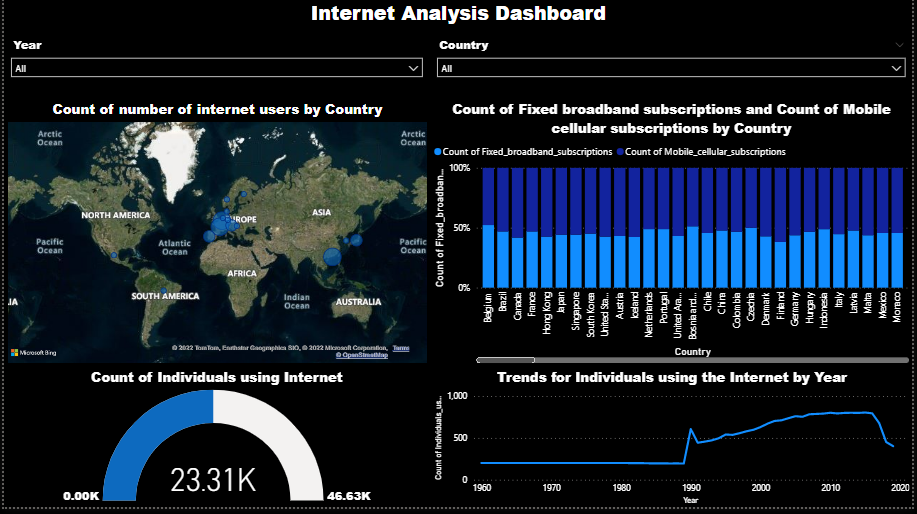

The dashboard page shown, as its layout file describes it:
{"tool":"powerbi","page":{"name":"Page 1","canvas":[1280,720],"ordinal":0},"visuals":[{"type":"textbox","box":[0,0,1280.5,52.2],"z":0},{"type":"map","title":"Count of number of internet users by Country","fields":{"Category":["new_file.Country"],"Size":["CountNonNull(new_file.number_of_internet_users)"]},"box":[0,145.4,601.4,376.9],"z":1000},{"type":"gauge","title":"Count of Individuals using Internet","fields":{"Y":["CountNonNull(new_file.Individuals_using_the_Internet)"]},"box":[0,522.4,600,197.6],"z":2000},{"type":"hundredPercentStackedColumnChart","title":"Count of Fixed broadband subscriptions and Count of Mobile cellular subscriptions by Country","fields":{"Category":["new_file.Country"],"Y":["Count(new_file.Fixed_broadband_subscriptions)","Count(new_file.Mobile_cellular_subscriptions)"]},"box":[600,145.4,680.5,376.9],"z":3000},{"type":"lineChart","title":"Trends for Individuals using the Internet by Year","fields":{"Category":["new_file.Year"],"Y":["CountNonNull(new_file.Individuals_using_the_Internet)"]},"box":[601.4,522.4,679.1,197.6],"z":4000},{"type":"slicer","title":"Year","fields":{"Values":["new_file.Year"]},"box":[0,52.2,600,93.2],"z":5000},{"type":"slicer","title":"Country","fields":{"Values":["new_file.Country"]},"box":[600,52.2,680.5,93.2],"z":6000}]}

Visuals, with their boxes in screenshot pixels (x1, y1, x2, y2), scaled from the page's 1280x720 canvas onto the 917x514 screenshot:
textbox: 0/0/916/37
"Count of number of internet users by Country" map: 0/104/431/373
"Count of Individuals using Internet" gauge: 0/373/430/513
"Count of Fixed broadband subscriptions and Count of Mobile cellular subscriptions by Country" hundredPercentStackedColumnChart: 430/104/916/373
"Trends for Individuals using the Internet by Year" lineChart: 431/373/916/513
"Year" slicer: 0/37/430/104
"Country" slicer: 430/37/916/104
